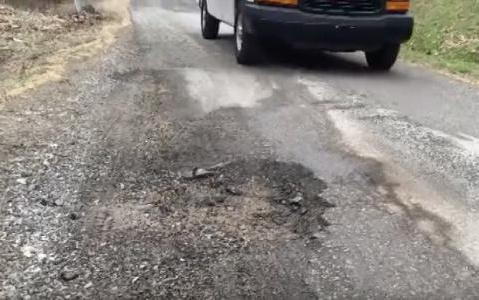pothole: (169, 155, 339, 250)
